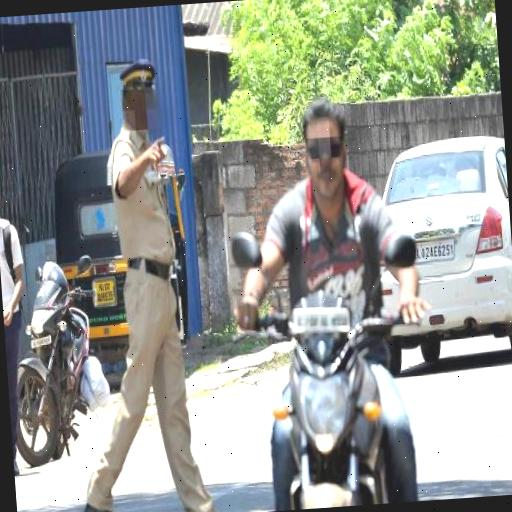no helmet: (231, 68, 437, 510)
